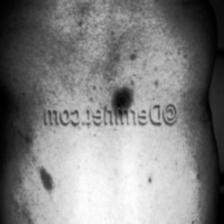Toxin: (38, 166, 56, 194), (112, 88, 132, 109)
